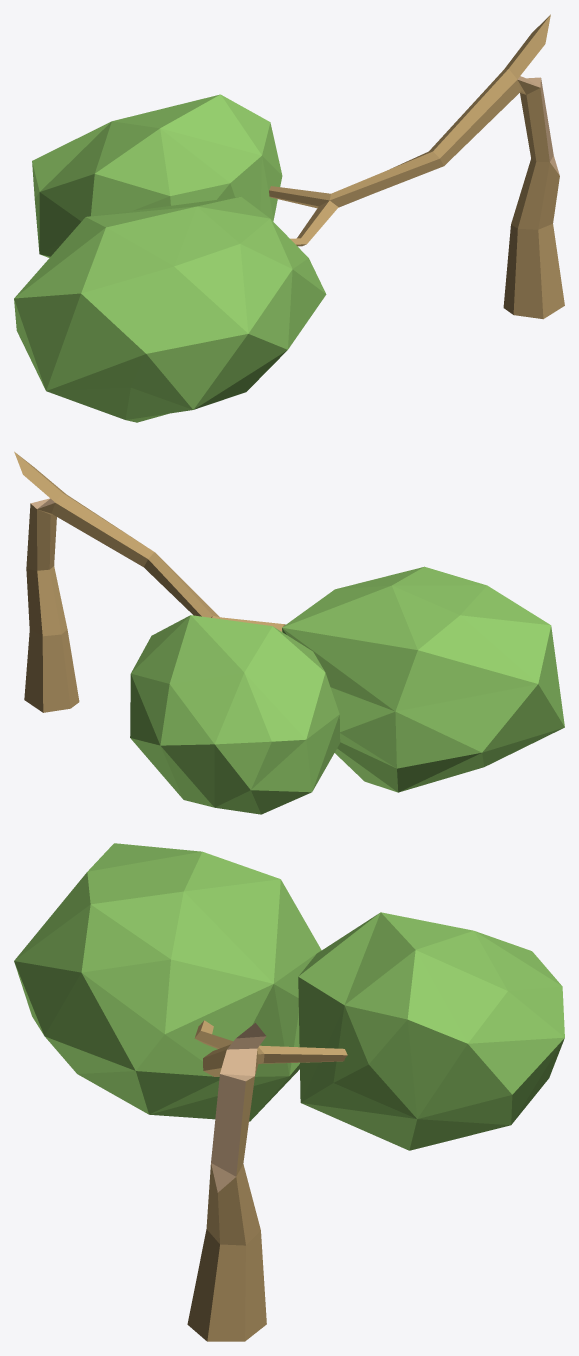
Rendered from Oak_Tree_crk_m_BT_04.fbx.
The picture shows the model from 3 angles, top to bottom: view 1: azimuth 30°, elevation 25°; view 2: azimuth 150°, elevation 25°; view 3: azimuth 270°, elevation 25°; orthographic projection. The views are drawn at different scales.
Parts seen in each view (by area): view 1: Oak_Tree_crk_m_BT_04; view 2: Oak_Tree_crk_m_BT_04; view 3: Oak_Tree_crk_m_BT_04.
Boxes of the visible parts, left/top/right/bottom form: Oak_Tree_crk_m_BT_04: left=14, top=14, right=564, bottom=422; Oak_Tree_crk_m_BT_04: left=14, top=451, right=564, bottom=814; Oak_Tree_crk_m_BT_04: left=14, top=843, right=564, bottom=1341.
Bounding box in the file's own units: 572 × 270 × 418.
